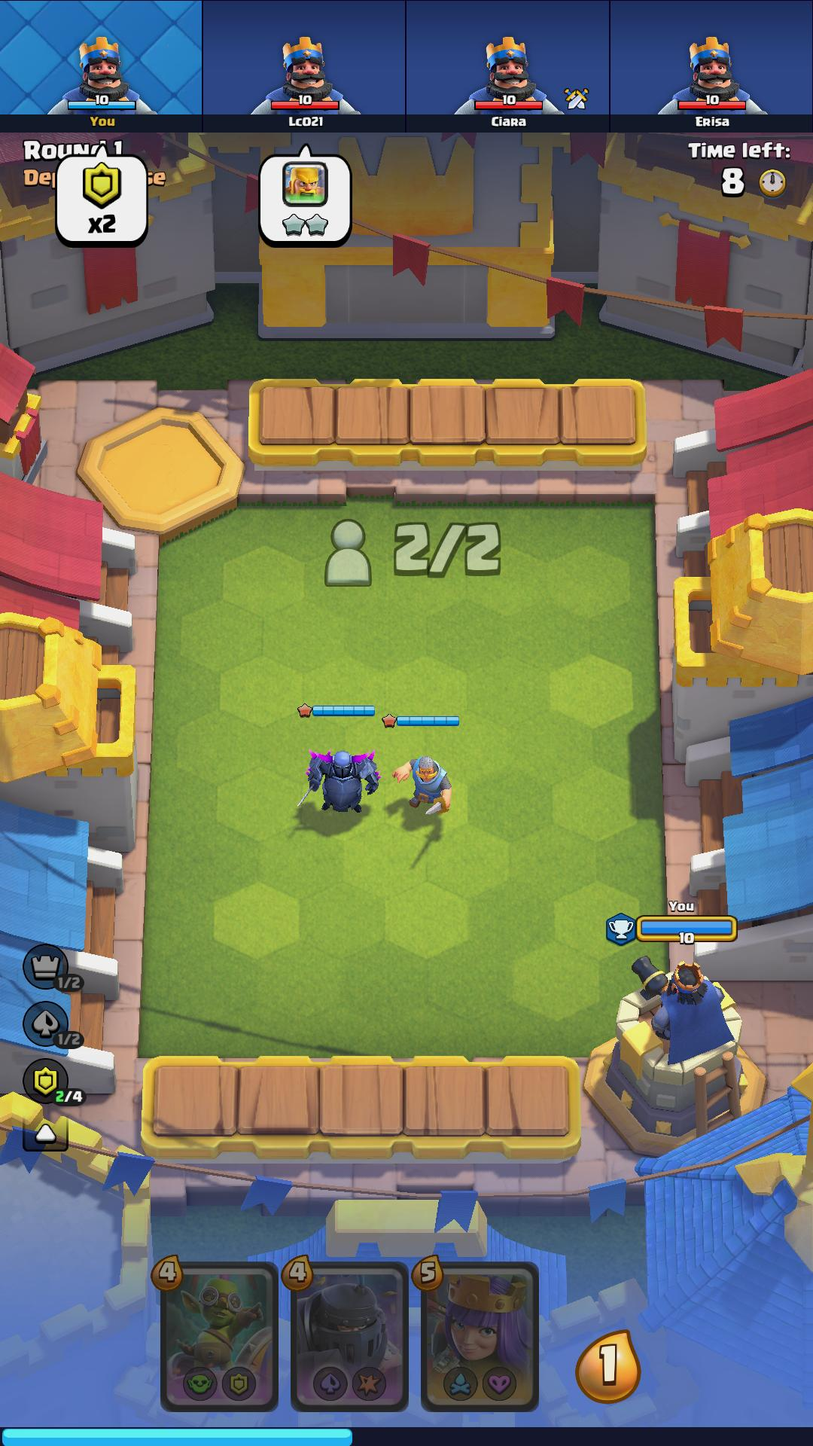hand-machine: (166, 1265, 280, 1406)
hand-mega: (292, 1264, 407, 1406)
hand-queen: (423, 1265, 536, 1412)
knight: (385, 736, 462, 827)
pekka: (292, 727, 384, 821)
